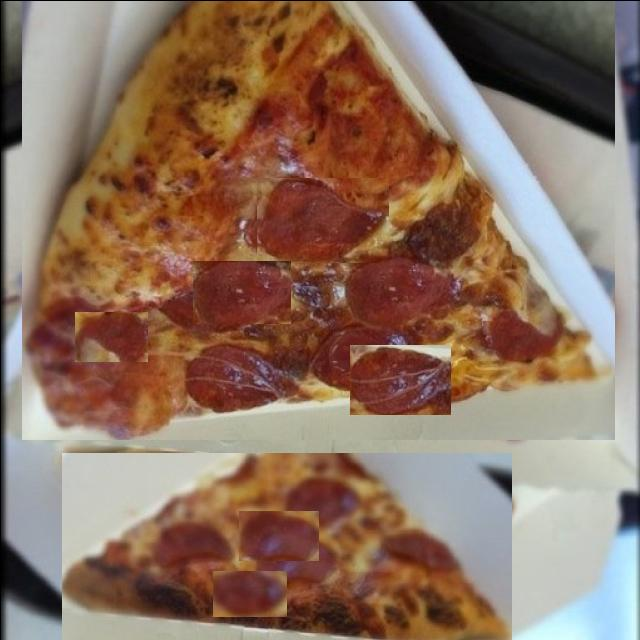pepperoni: (255, 177, 388, 262), (360, 269, 481, 334), (349, 344, 450, 414), (228, 324, 325, 389), (192, 258, 290, 322), (238, 510, 318, 560), (74, 311, 147, 361), (212, 570, 286, 616), (338, 530, 420, 570), (114, 523, 192, 565)
pizza: (21, 0, 614, 439), (61, 452, 511, 640)
